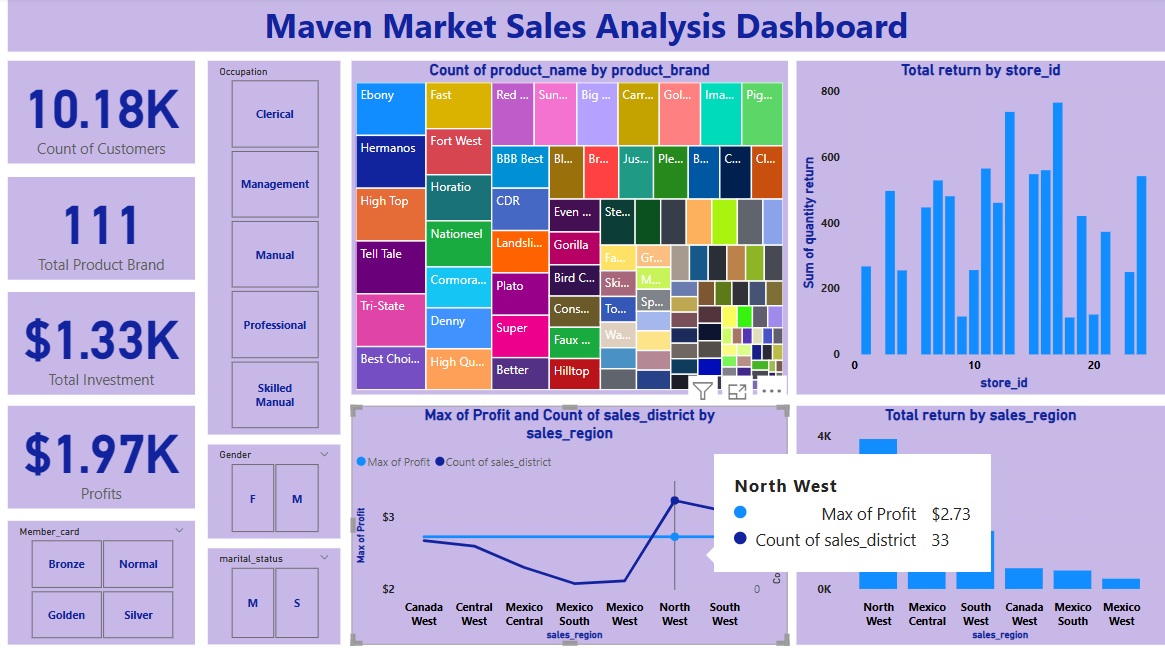

The dashboard page shown, as its layout file describes it:
{"tool":"powerbi","page":{"name":"Page 1","canvas":[1280,720],"ordinal":0},"visuals":[{"type":"card","fields":{"Values":["Count(MavenMarket_Customers.Full Name)"]},"box":[9.6,70,205.8,112.5],"z":0},{"type":"card","fields":{"Values":["Count(MavenMarket_Products.product_brand)"]},"box":[9.6,197.6,205.8,112.5],"z":1},{"type":"slicer","fields":{"Values":["MavenMarket_Customers.gender"]},"box":[229.2,491.3,145.5,102.9],"z":2},{"type":"slicer","fields":{"Values":["MavenMarket_Customers.member_card"]},"box":[9.6,575,205.8,135.8],"z":3},{"type":"slicer","fields":{"Values":["MavenMarket_Customers.occupation"]},"box":[229.2,70,145.5,410.3],"z":4},{"type":"card","fields":{"Values":["MavenMarket_Products.Profits"]},"box":[9.6,448.7,205.8,112.5],"z":5},{"type":"card","fields":{"Values":["MavenMarket_Products.Investment"]},"box":[9.6,323.8,205.8,112.5],"z":6},{"type":"textbox","box":[9.3,0,1270.7,60.4],"z":7},{"type":"columnChart","title":"Total return by store_id","fields":{"Category":["MavenMarket_Returns_1997-1998.store_id"],"Y":["Sum(MavenMarket_Returns_1997-1998.quantity)"]},"box":[875.5,70,404.8,366.4],"z":8},{"type":"treemap","fields":{"Group":["MavenMarket_Products.product_brand"],"Values":["Count(MavenMarket_Products.product_name)"]},"box":[387,70,478.9,366.4],"z":9},{"type":"lineChart","fields":{"Category":["MavenMarket_Regions.sales_region"],"Y2":["CountNonNull(MavenMarket_Regions.sales_district)"],"Y":["Max(MavenMarket_Products.Profit)"]},"box":[387,448.7,478.9,262.1],"z":10},{"type":"columnChart","title":"Total return by sales_region","fields":{"Category":["MavenMarket_Regions.sales_region"],"Y":["Sum(MavenMarket_Returns_1997-1998.quantity)"]},"box":[875.5,448.7,404.8,262.1],"z":11},{"type":"slicer","fields":{"Values":["MavenMarket_Customers.marital_status"]},"box":[229.2,605.1,145.5,105.7],"z":12}]}

Visuals, with their boxes in screenshot pixels (x1, y1, x2, y2), scaled from the page's 1280x720 canvas onto the 1165x653 screenshot:
card - Count(MavenMarket_Customers.Full Name): box(9, 63, 196, 166)
card - Count(MavenMarket_Products.product_brand): box(9, 179, 196, 281)
slicer - MavenMarket_Customers.gender: box(209, 446, 341, 539)
slicer - MavenMarket_Customers.member_card: box(9, 521, 196, 645)
slicer - MavenMarket_Customers.occupation: box(209, 63, 341, 436)
card - MavenMarket_Products.Profits: box(9, 407, 196, 509)
card - MavenMarket_Products.Investment: box(9, 294, 196, 396)
textbox: box(8, 0, 1164, 55)
"Total return by store_id" columnChart: box(797, 63, 1164, 396)
treemap - MavenMarket_Products.product_brand x Count(MavenMarket_Products.product_name): box(352, 63, 788, 396)
lineChart - MavenMarket_Regions.sales_region x CountNonNull(MavenMarket_Regions.sales_district): box(352, 407, 788, 645)
"Total return by sales_region" columnChart: box(797, 407, 1164, 645)
slicer - MavenMarket_Customers.marital_status: box(209, 549, 341, 645)
